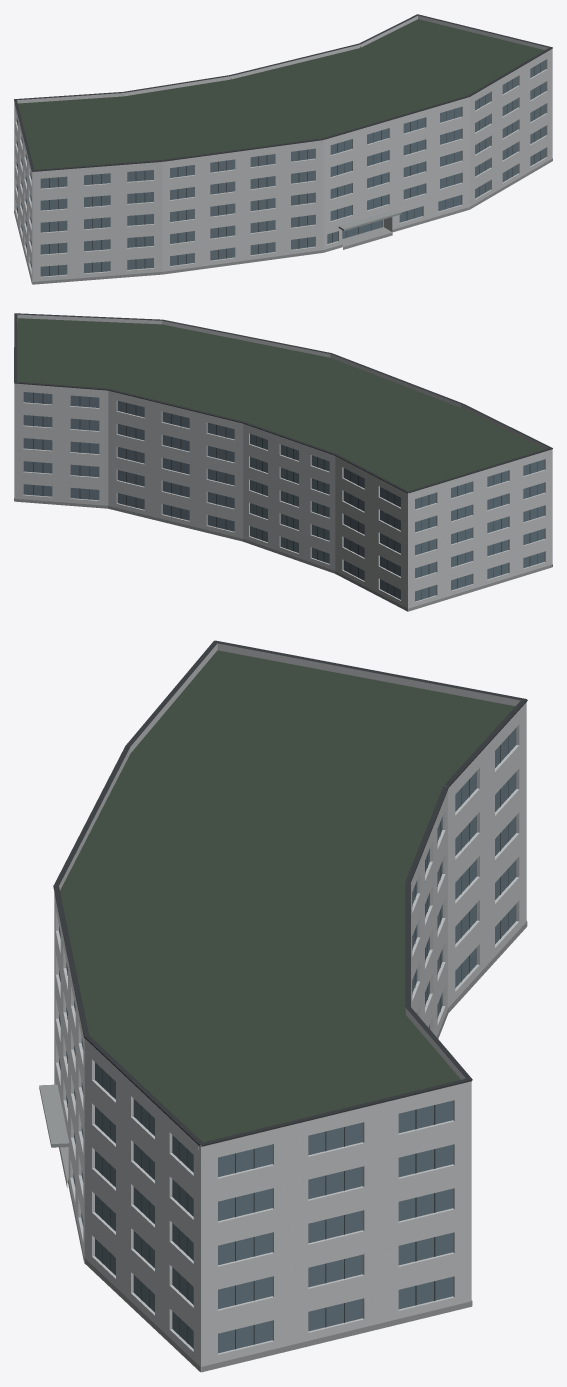
The picture shows the model from 3 angles, top to bottom: view 1: azimuth 30°, elevation 25°; view 2: azimuth 150°, elevation 25°; view 3: azimuth 270°, elevation 25°; orthographic projection. The views are drawn at different scales.
Parts seen in each view (by area): view 1: ottogi__wall, ottogi__roof, ottogi__glass, ottogi__parapet, ottogi__trim, ottogi__base, ottogi__frame, ottogi__canopy; view 2: ottogi__wall, ottogi__roof, ottogi__glass, ottogi__parapet, ottogi__trim, ottogi__frame, ottogi__base; view 3: ottogi__roof, ottogi__wall, ottogi__glass, ottogi__trim, ottogi__parapet, ottogi__base, ottogi__frame, ottogi__canopy.
Boxes of the visible parts, x1,y1,x2,y2 form: ottogi__wall: [14, 51, 552, 283]; ottogi__roof: [18, 19, 544, 169]; ottogi__glass: [16, 60, 545, 276]; ottogi__parapet: [14, 15, 552, 174]; ottogi__trim: [14, 14, 552, 171]; ottogi__base: [14, 158, 552, 284]; ottogi__frame: [17, 63, 540, 275]; ottogi__canopy: [338, 209, 401, 230]; ottogi__wall: [14, 386, 552, 611]; ottogi__roof: [17, 318, 543, 491]; ottogi__glass: [23, 392, 544, 601]; ottogi__parapet: [14, 314, 552, 495]; ottogi__trim: [14, 313, 552, 493]; ottogi__frame: [33, 392, 537, 599]; ottogi__base: [14, 498, 552, 611]; ottogi__roof: [60, 650, 515, 1142]; ottogi__wall: [54, 707, 526, 1371]; ottogi__glass: [59, 728, 516, 1353]; ottogi__trim: [53, 640, 527, 1146]; ottogi__parapet: [54, 643, 526, 1151]; ottogi__base: [59, 921, 527, 1372]; ottogi__frame: [67, 736, 508, 1349]; ottogi__canopy: [39, 1084, 69, 1147].
Size of the model in its own units: 78.72 by 16.9 by 32.16.
